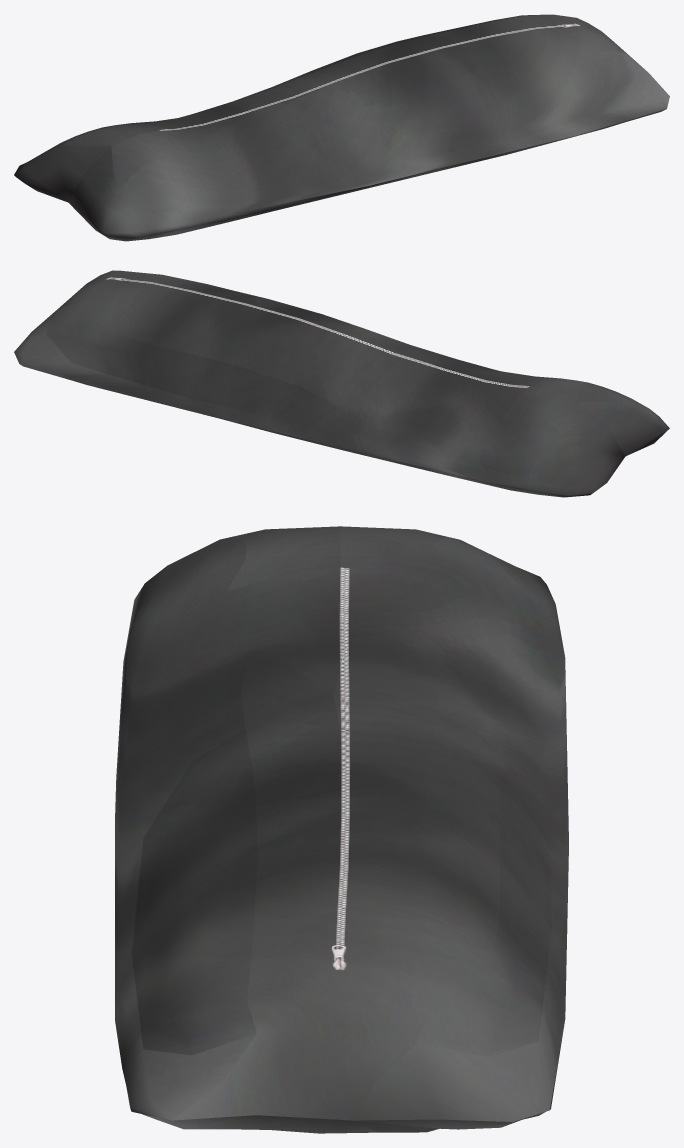
The model's file is BodyBagFull.fbx.
The picture shows the model from 3 angles, top to bottom: view 1: azimuth 30°, elevation 25°; view 2: azimuth 150°, elevation 25°; view 3: azimuth 270°, elevation 25°; orthographic projection. The views are drawn at different scales.
Visible parts, largest first — view 1: Cube.001; view 2: Cube.001; view 3: Cube.001.
Boxes of the visible parts, box(x1,y1,x2,y2) form: Cube.001: box(14, 14, 669, 241); Cube.001: box(14, 270, 669, 497); Cube.001: box(115, 526, 568, 1133).
Size of the model in its own units: 1.03 by 0.1499 by 0.3518.
